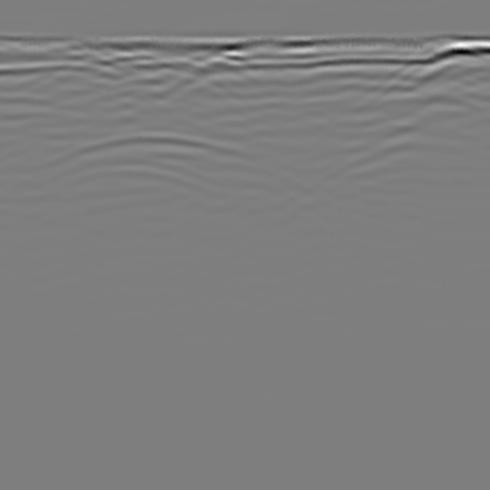hyperbola: (31, 113, 284, 235)
